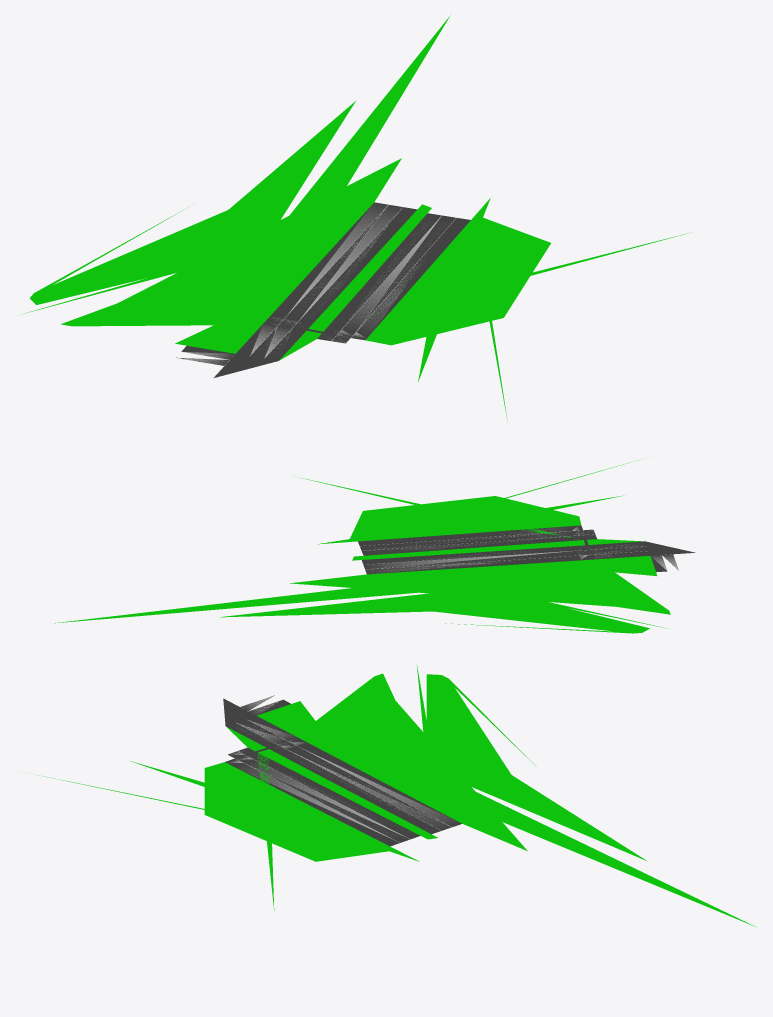
The picture shows the model from 3 angles, top to bottom: view 1: azimuth 30°, elevation 25°; view 2: azimuth 150°, elevation 25°; view 3: azimuth 270°, elevation 25°; orthographic projection. The views are drawn at different scales.
Bounding box in the file's own units: 218 × 0.001 × 201.
